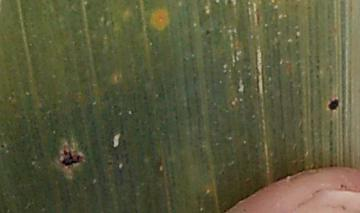tarspot: (60, 148, 84, 166), (328, 98, 338, 110), (205, 29, 211, 37)
